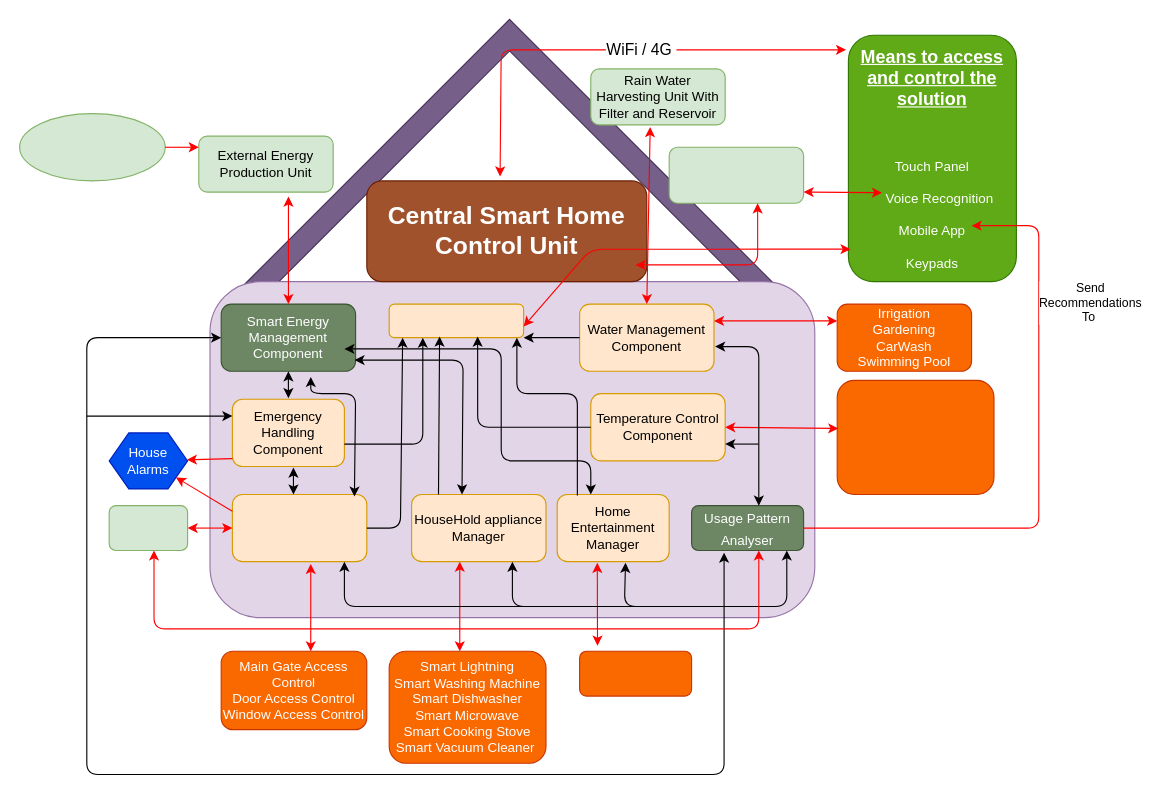
Some shapes in this 1160 by 805 pixel diagram are drawn without their labels. Each missing label, with the centre of its shape:
Cloud Storage: the point at 148,527
Home Security Management Component: the point at 299,527
Home Theatre Multi Room Audio: the point at 635,673
Intelligent Voice Assistant (Amazon Alexa,Google Home): the point at 736,174
Notification Manager: the point at 456,320
Solar PhotoVoltaic: the point at 91,147
Thermostat based Smart devices Air Conditioning Smart Window blinds: the point at 915,436
